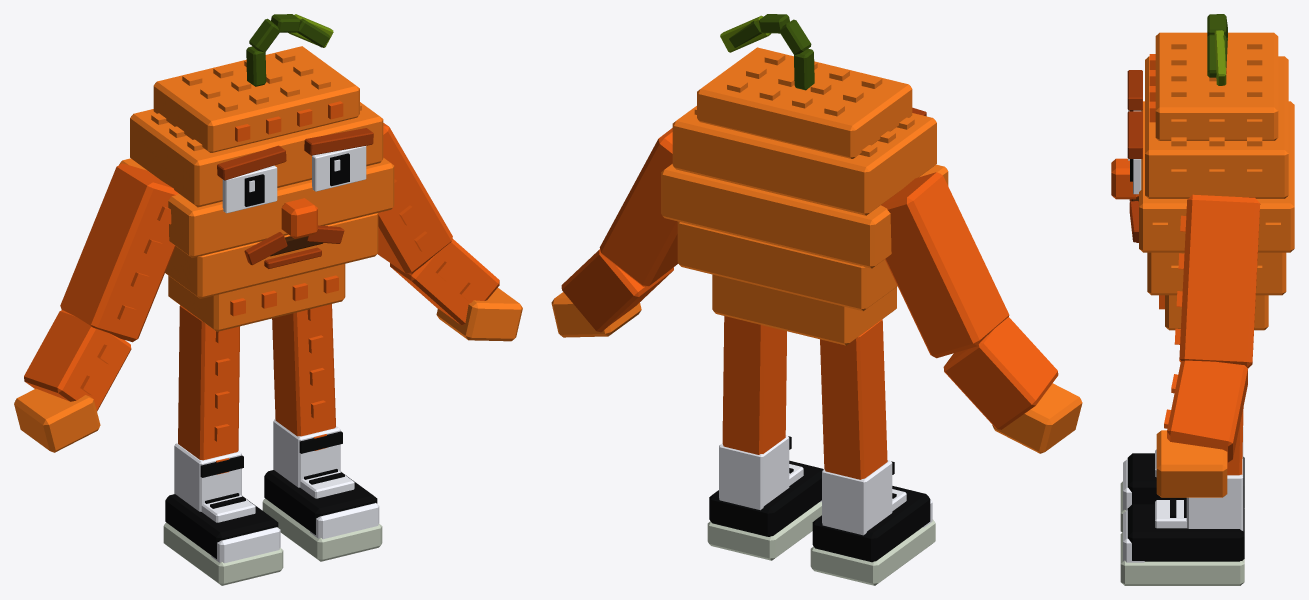
The model's file is OdinDinDinDun.glb.
3 renders of one model, left to right at view 1: azimuth 30°, elevation 25°; view 2: azimuth 150°, elevation 25°; view 3: azimuth 270°, elevation 25°, orthographic. The views are drawn at different scales.
Parts seen in each view (by area): view 1: OdinDinDinDun; view 2: OdinDinDinDun; view 3: OdinDinDinDun.
Boxes of the visible parts, x1,y1,x2,y2 form: OdinDinDinDun: (14, 14, 522, 585); OdinDinDinDun: (551, 14, 1082, 585); OdinDinDinDun: (1111, 14, 1294, 585).
Bounding box in the file's own units: 4.89 × 5 × 1.54.
1 material, 1 textured.
